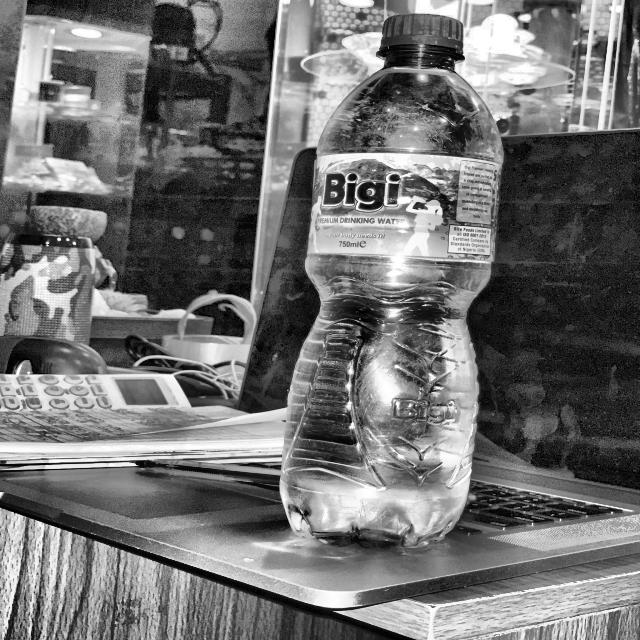waterbottle: (280, 14, 504, 549)
